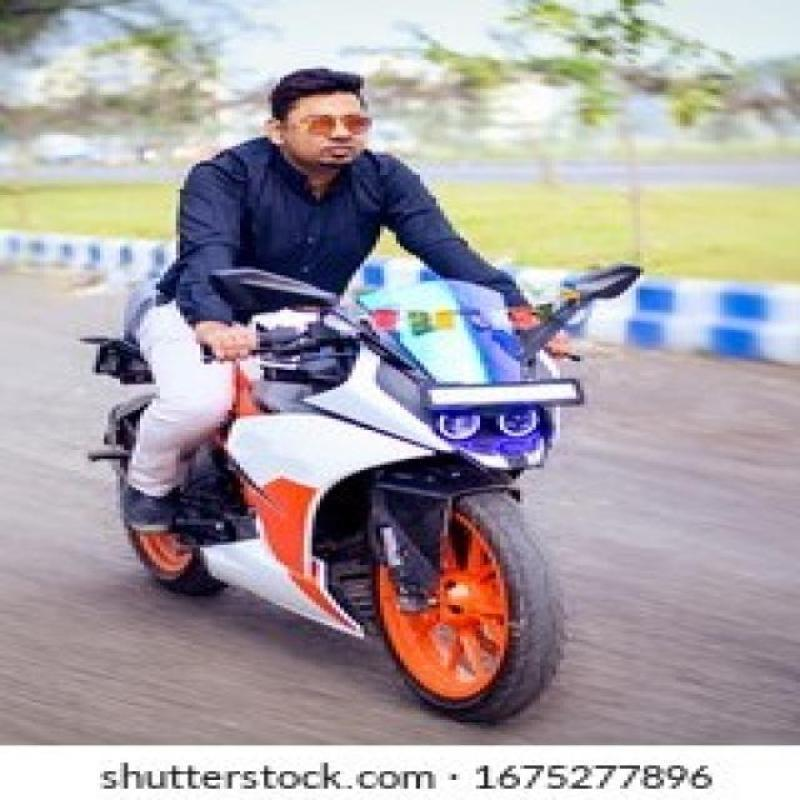nohelmet: (244, 58, 419, 183)
